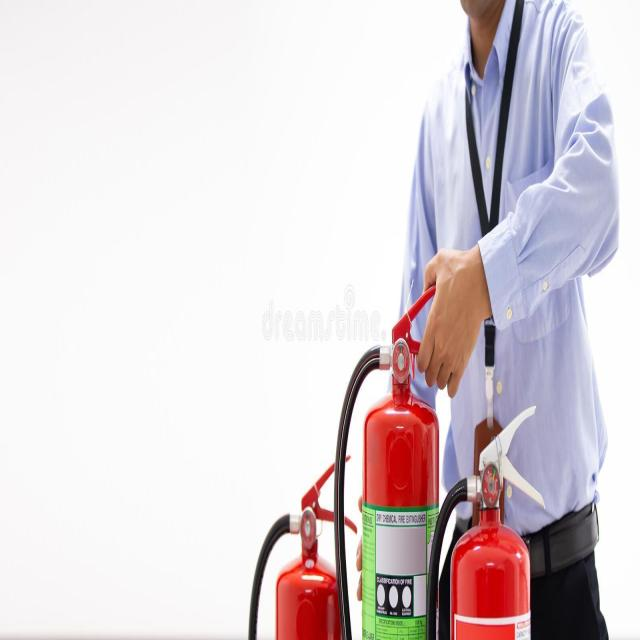fire_extinguisher: (332, 272, 456, 639), (421, 401, 546, 639), (246, 444, 358, 639)
